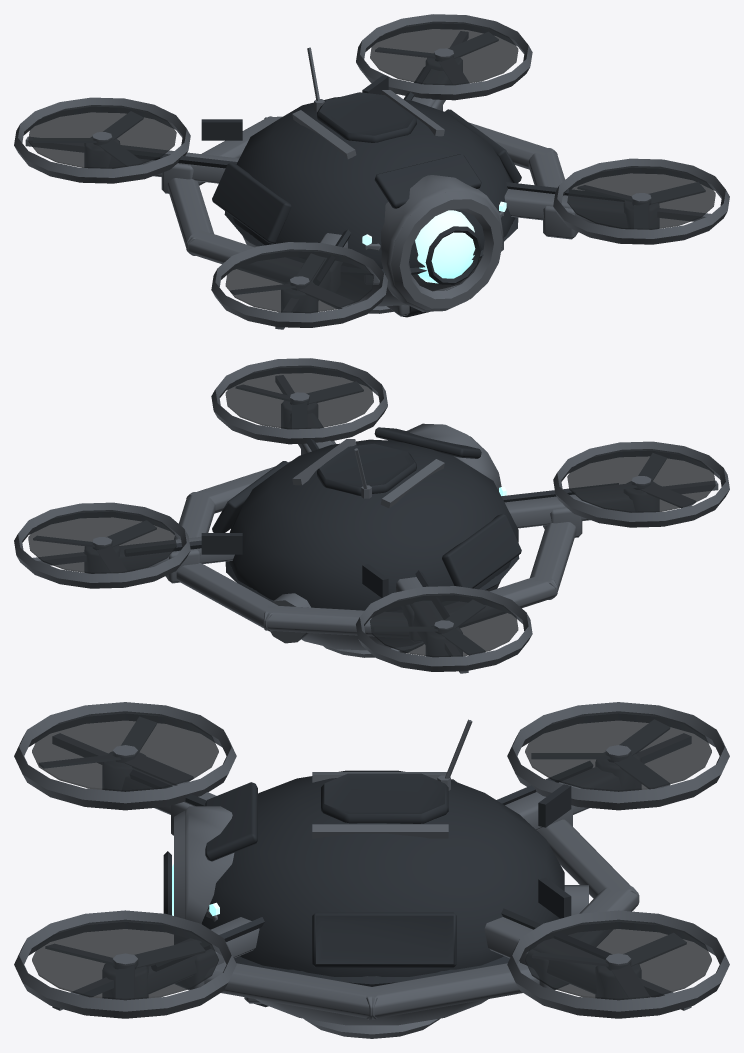
Rendered from drone.fbx.
3 views of the same model, one above another, from view 1: azimuth 30°, elevation 25°; view 2: azimuth 150°, elevation 25°; view 3: azimuth 270°, elevation 25° (orthographic). The views are drawn at different scales.
Parts seen in each view (by area): view 1: body, rotor_0_blur, rotor_1_blur, rotor_3_blur, rotor_2_blur, prop_2, prop_3, prop_1, prop_0; view 2: body, rotor_1_blur, rotor_0_blur, rotor_2_blur, rotor_3_blur, prop_0, prop_1, prop_3, prop_2; view 3: body, rotor_2_blur, rotor_3_blur, rotor_0_blur, rotor_1_blur, prop_2, prop_3, prop_0, prop_1.
Boxes of the visible parts, x1=… form: body: x1=14, y1=14, x2=729, y2=329; rotor_0_blur: x1=567, y1=166, x2=715, y2=229; rotor_1_blur: x1=370, y1=21, x2=518, y2=85; rotor_3_blur: x1=225, y1=249, x2=373, y2=313; rotor_2_blur: x1=28, y1=105, x2=176, y2=168; prop_2: x1=33, y1=111, x2=143, y2=166; prop_3: x1=231, y1=254, x2=353, y2=308; prop_1: x1=375, y1=32, x2=498, y2=85; prop_0: x1=578, y1=182, x2=705, y2=228; body: x1=14, y1=358, x2=729, y2=673; rotor_1_blur: x1=28, y1=510, x2=176, y2=573; rotor_0_blur: x1=225, y1=365, x2=373, y2=429; rotor_2_blur: x1=370, y1=593, x2=518, y2=657; rotor_3_blur: x1=567, y1=449, x2=715, y2=512; prop_0: x1=236, y1=382, x2=363, y2=428; prop_1: x1=33, y1=521, x2=156, y2=572; prop_3: x1=573, y1=453, x2=695, y2=508; prop_2: x1=375, y1=600, x2=485, y2=655; body: x1=14, y1=702, x2=729, y2=1038; rotor_2_blur: x1=525, y1=711, x2=711, y2=791; rotor_3_blur: x1=32, y1=711, x2=218, y2=791; rotor_0_blur: x1=32, y1=919, x2=218, y2=1000; rotor_1_blur: x1=525, y1=919, x2=711, y2=1000; prop_2: x1=532, y1=720, x2=670, y2=788; prop_3: x1=39, y1=717, x2=192, y2=785; prop_0: x1=46, y1=940, x2=204, y2=999; prop_1: x1=532, y1=933, x2=686, y2=998.
Size of the model in its own units: 1.68 by 0.7102 by 1.68.
